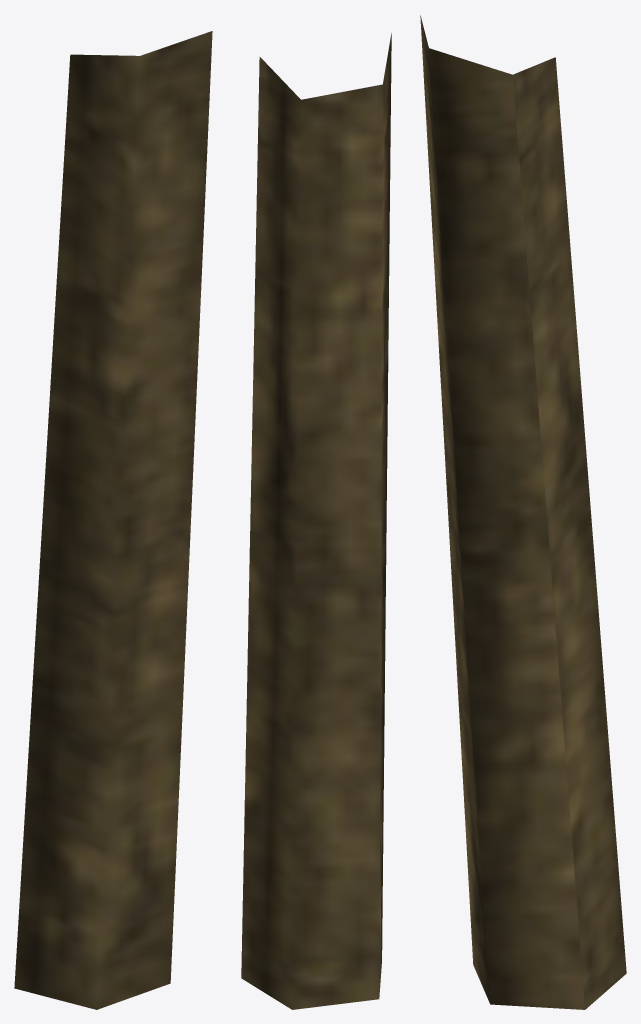
Rendered from mini_pillar.glb.
3 views of the same model, side by side, from view 1: azimuth 30°, elevation 25°; view 2: azimuth 150°, elevation 25°; view 3: azimuth 270°, elevation 25° (orthographic). The views are drawn at different scales.
Parts seen in each view (by area): view 1: electroPost.jpg__; view 2: electroPost.jpg__; view 3: electroPost.jpg__.
Part boxes in pixels (left/top/right/bottom): electroPost.jpg__: left=14, top=31, right=212, bottom=1009; electroPost.jpg__: left=241, top=33, right=391, bottom=1009; electroPost.jpg__: left=420, top=15, right=626, bottom=1009.
Size of the model in its own units: 0.8084 by 4.99 by 0.9706.
Materials: 1 (1 with a texture image).
